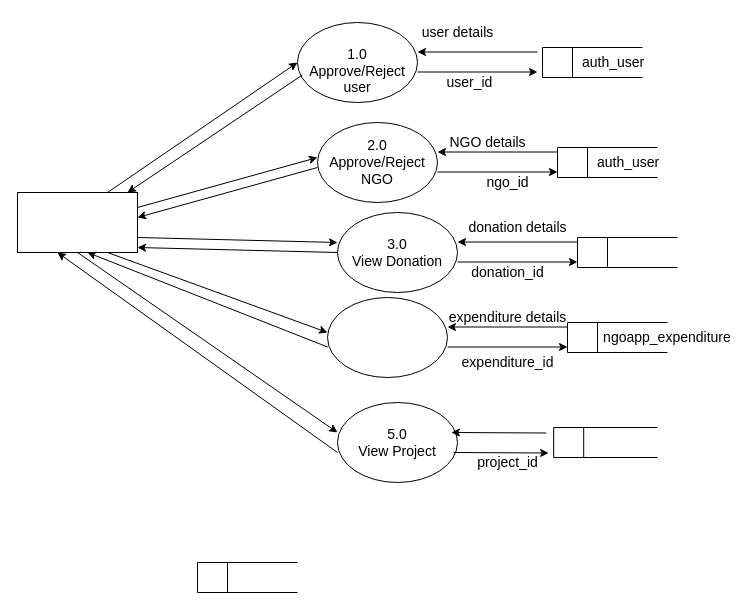
Image size: 751x610. Some labels were removed from this diagram. Here are the shapes that lost their labels. From the top down, the box of each, then its label:
(16, 192, 138, 252): Admin
(576, 236, 678, 268): ngoapp_udonation
(326, 296, 448, 378): 4.0 View Expenditure
(553, 426, 658, 458): ngoapp_ngo_reg
